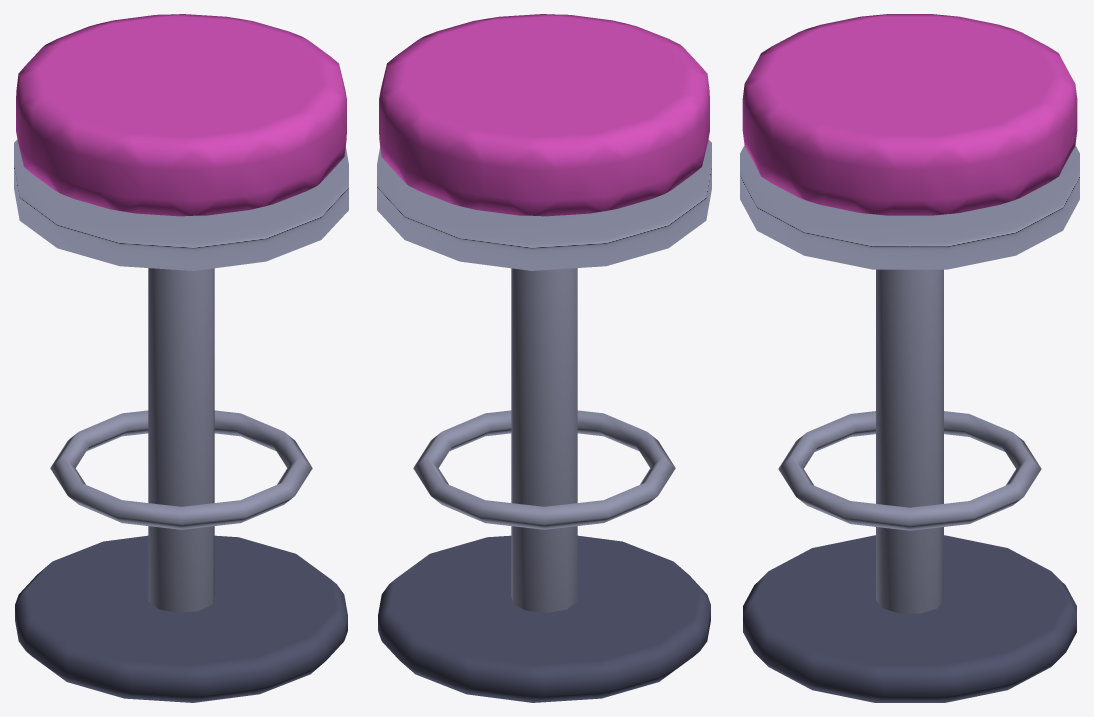
The model's file is stool.glb.
The picture shows the model from 3 angles, left to right: view 1: azimuth 30°, elevation 25°; view 2: azimuth 150°, elevation 25°; view 3: azimuth 270°, elevation 25°; orthographic projection.
Parts seen in each view (by area): view 1: Stool.001; view 2: Stool.001; view 3: Stool.001.
Boxes of the visible parts, x1,y1,x2,y2 form: Stool.001: (14,14,348,702); Stool.001: (377,14,711,702); Stool.001: (740,14,1079,702).
Size of the model in its own units: 0.39 by 0.73 by 0.4.
